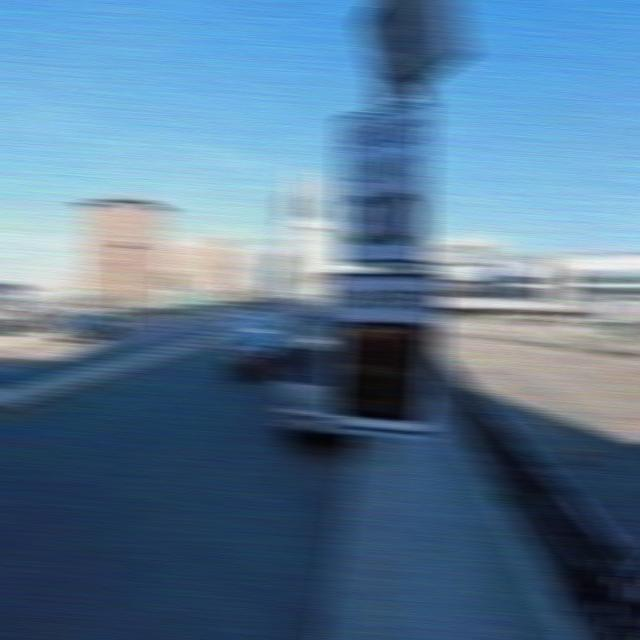speedLimit35: (336, 96, 432, 261)
